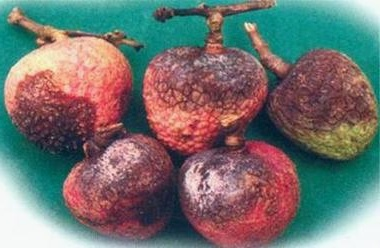Anthracnose: (9, 68, 82, 162), (284, 46, 354, 128), (159, 38, 245, 103), (61, 131, 135, 204), (188, 154, 262, 207)
